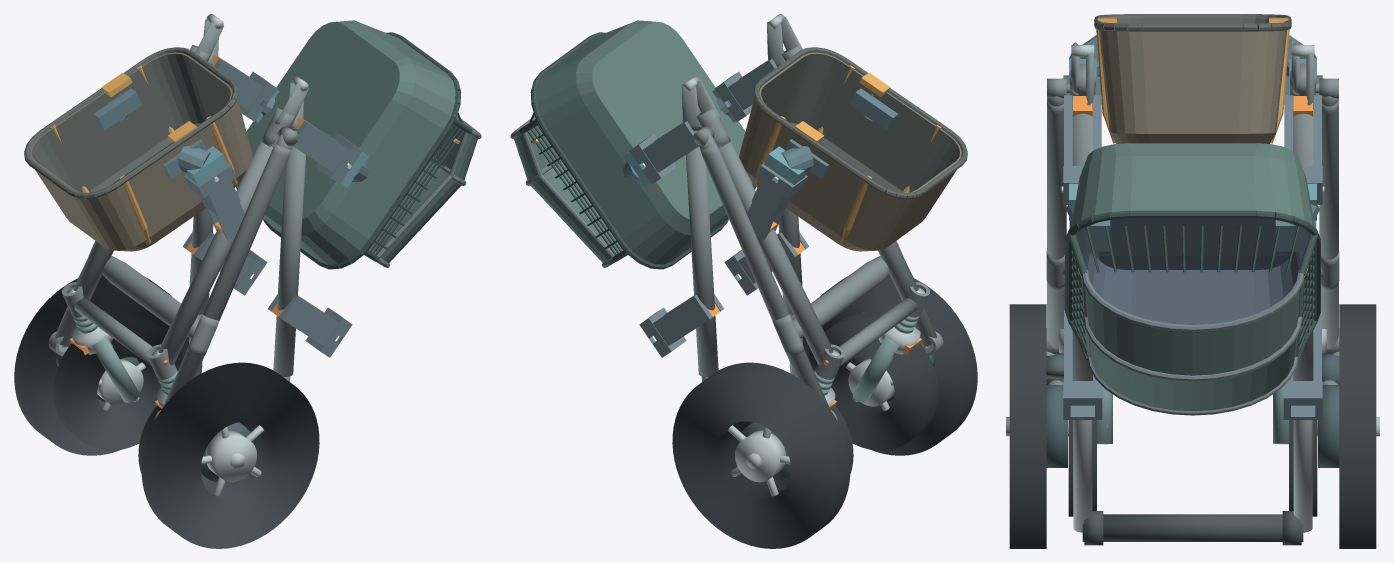
Rendered from D35_w380_state3_wheel_M.glb.
The picture shows the model from 3 angles, left to right: view 1: azimuth 30°, elevation 25°; view 2: azimuth 150°, elevation 25°; view 3: azimuth 270°, elevation 25°; orthographic projection. The views are drawn at different scales.
Parts seen in each view (by area): view 1: D35_Upper, D35_Lower, RL_tire.013, FR_tire.013, RR_tire.013, main_upper_-1.001, V46_rear_leg_-1, main_lower_-1.001, D35_Lower_Mount_L, Universal_Cabin_Receiver_H_-1, V46_rearbar, Universal_Cabin_Receiver_M_-1 (+14 smaller); view 2: D35_Upper, D35_Lower, RR_tire.013, FL_tire.013, RL_tire.013, main_upper_1.001, V46_rear_leg_1, main_lower_1.001, D35_Lower_Mount_L, Universal_Cabin_Receiver_H_1, V46_rearbar, Universal_Cabin_Receiver_M_1 (+16 smaller); view 3: D35_Upper, D35_Lower, RL_tire.013, RR_tire.013, round_handle.012, V46_rear_leg_1, V46_rear_leg_-1, handle_slider_1.012, handle_slider_-1.012, Universal_Cabin_Receiver_H_1, Universal_Cabin_Receiver_H_-1, D35_Upper_Mount_M (+16 smaller).
Part boxes in pixels (x1,y1,x2,y2): D35_Upper: [236, 20, 481, 269]; D35_Lower: [24, 47, 252, 251]; RL_tire.013: [141, 362, 319, 548]; FR_tire.013: [53, 313, 182, 450]; RR_tire.013: [14, 275, 189, 455]; main_upper_-1.001: [273, 131, 305, 376]; V46_rear_leg_-1: [162, 144, 291, 407]; main_lower_-1.001: [158, 138, 278, 365]; D35_Lower_Mount_L: [93, 88, 227, 184]; Universal_Cabin_Receiver_H_-1: [268, 294, 352, 357]; V46_rearbar: [102, 256, 199, 338]; Universal_Cabin_Receiver_M_-1: [293, 119, 362, 183]; D35_Upper: [510, 20, 755, 269]; D35_Lower: [739, 47, 967, 251]; RR_tire.013: [672, 362, 850, 548]; FL_tire.013: [809, 313, 938, 450]; RL_tire.013: [802, 275, 977, 455]; main_upper_1.001: [686, 131, 718, 376]; V46_rear_leg_1: [700, 144, 829, 407]; main_lower_1.001: [713, 138, 833, 365]; D35_Lower_Mount_L: [764, 88, 898, 184]; Universal_Cabin_Receiver_H_1: [639, 294, 723, 357]; V46_rearbar: [792, 256, 889, 338]; Universal_Cabin_Receiver_M_1: [629, 112, 699, 183]; D35_Upper: [1065, 143, 1320, 415]; D35_Lower: [1094, 14, 1291, 143]; RL_tire.013: [1009, 304, 1046, 548]; RR_tire.013: [1339, 304, 1376, 548]; round_handle.012: [1082, 514, 1303, 541]; V46_rear_leg_1: [1319, 99, 1338, 348]; V46_rear_leg_-1: [1047, 99, 1066, 348]; handle_slider_1.012: [1293, 420, 1312, 532]; handle_slider_-1.012: [1073, 420, 1092, 532]; Universal_Cabin_Receiver_H_1: [1283, 310, 1322, 419]; Universal_Cabin_Receiver_H_-1: [1063, 310, 1102, 419]; D35_Upper_Mount_M: [1061, 183, 1324, 251].
Bounding box in the file's own units: 0.7543 × 0.7426 × 0.458.
